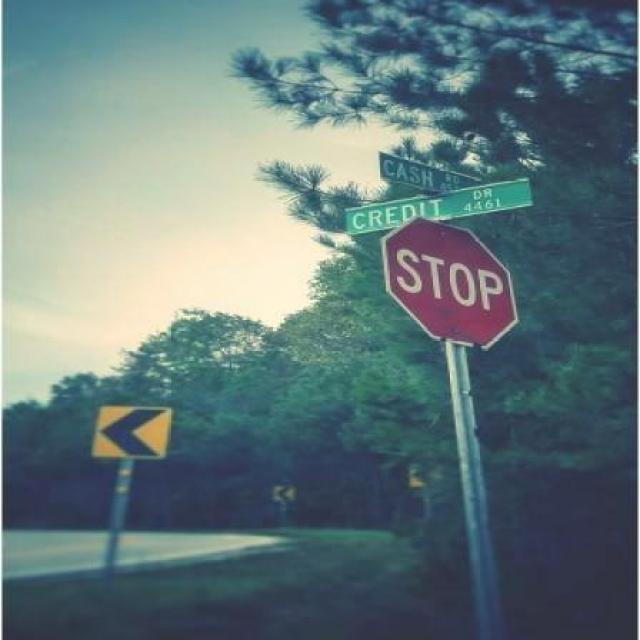Stop-Sign: (382, 219, 516, 349)
